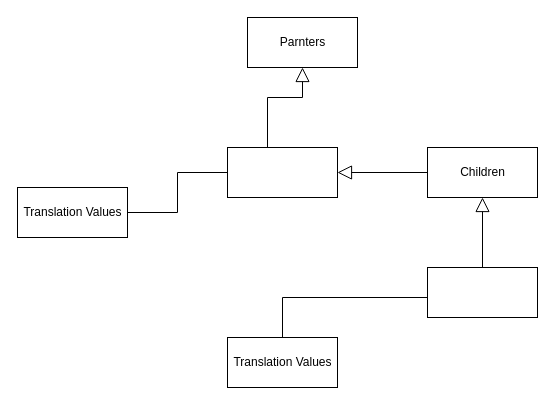
Some shapes in this 555 by 405 pixel diagram are drawn without their labels. Each missing label, with the box of its shape:
Child: (426, 266, 538, 318)
Partner: (226, 146, 338, 198)
